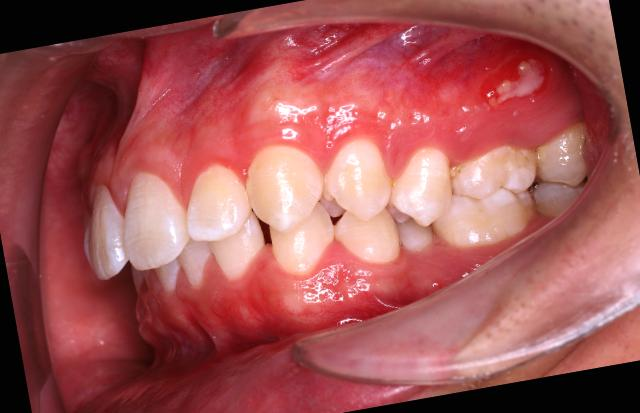canine class II 1/2: (239, 124, 402, 284)
molar class I: (420, 139, 554, 259)
